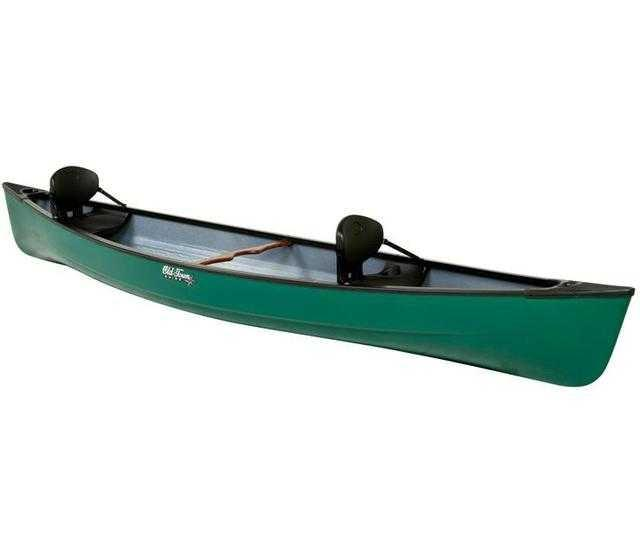kayak: (1, 159, 637, 381)
